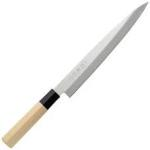Pisau: (0, 1, 150, 149)
